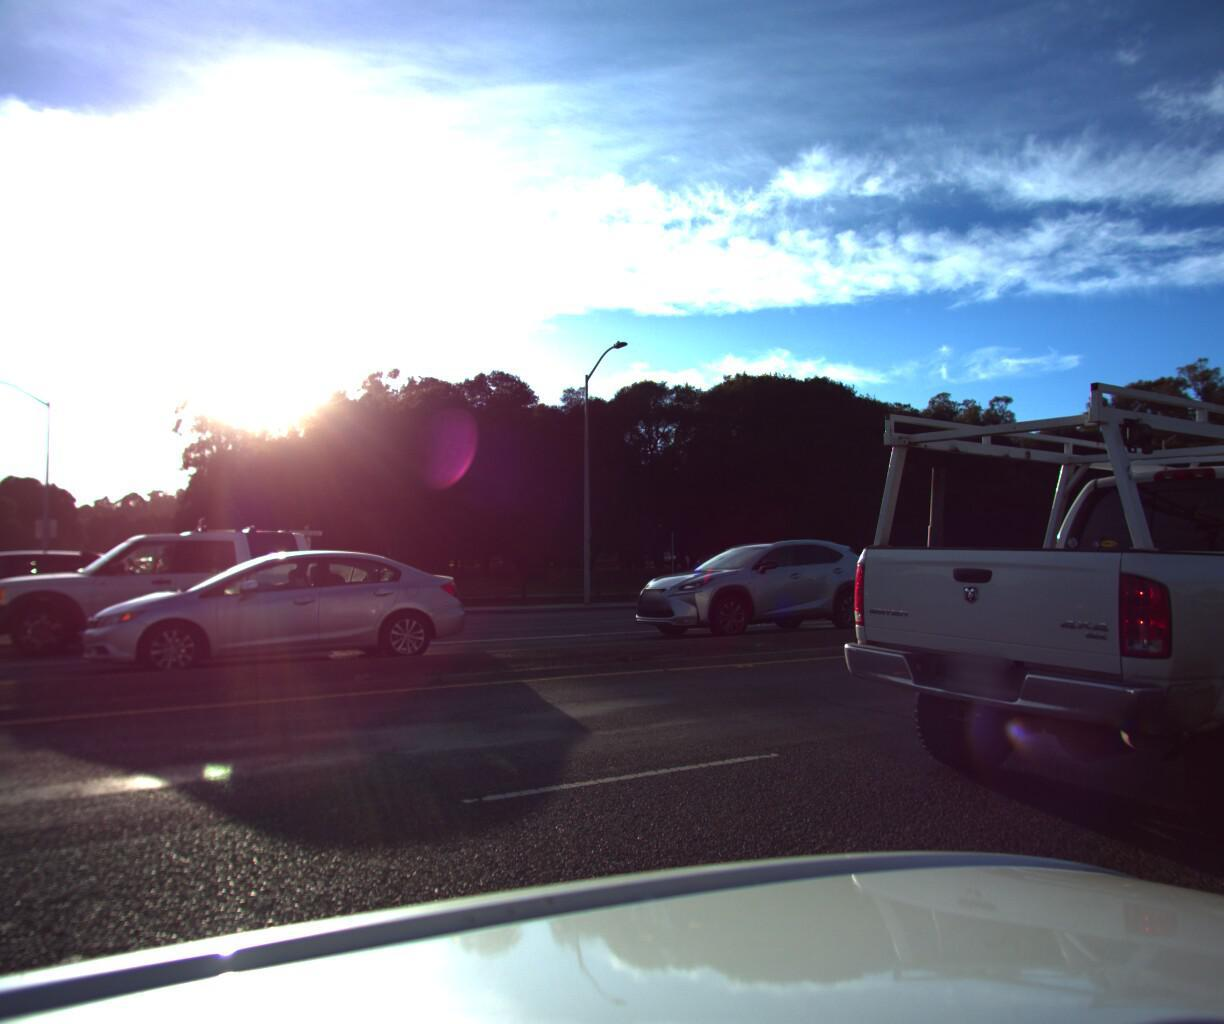car: (827, 355, 1224, 905), (65, 543, 482, 698), (0, 524, 316, 665), (616, 528, 894, 652), (919, 540, 1120, 625), (0, 535, 122, 662), (900, 550, 1069, 613)
